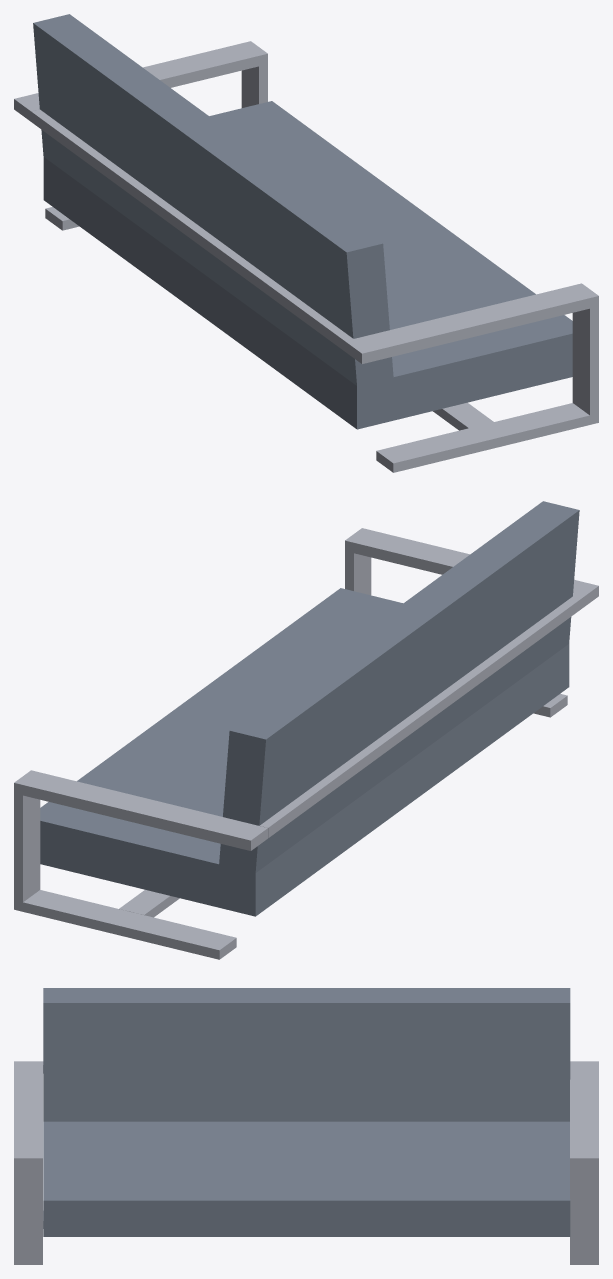
File: Canap2.fbx
The picture shows the model from 3 angles, top to bottom: view 1: azimuth 30°, elevation 25°; view 2: azimuth 150°, elevation 25°; view 3: azimuth 270°, elevation 25°; orthographic projection. The views are drawn at different scales.
Visible parts, largest first — view 1: Canape2; view 2: Canape2; view 3: Canape2.
Part boxes in pixels (box(x1,y1,x2,y2)): Canape2: box(14, 14, 598, 472); Canape2: box(14, 501, 598, 959); Canape2: box(14, 988, 598, 1264).
Bounding box in the file's own units: 302 × 257 × 755.
